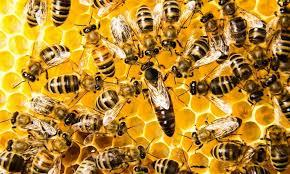Queen-Bee: (134, 59, 187, 140)
worker-bee: (75, 23, 121, 79), (18, 37, 70, 81), (24, 133, 79, 174), (197, 10, 236, 65), (93, 70, 145, 110), (231, 49, 265, 106), (187, 114, 244, 148), (111, 9, 147, 62), (206, 138, 274, 165), (89, 140, 150, 170), (41, 70, 108, 97), (216, 0, 255, 46), (173, 27, 204, 78), (26, 92, 75, 123), (136, 7, 164, 60), (262, 124, 290, 174), (159, 0, 185, 53), (15, 110, 57, 141), (189, 73, 240, 98), (264, 70, 290, 119), (269, 4, 290, 63)
